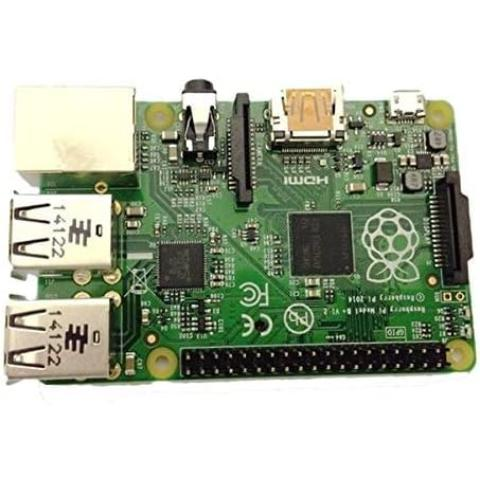Raspberry-Pi-1-Model-B-: (0, 76, 480, 390)
